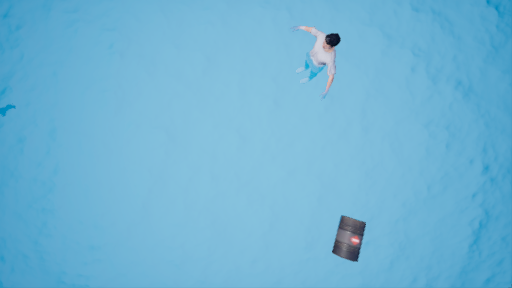person: (283, 24, 345, 106)
